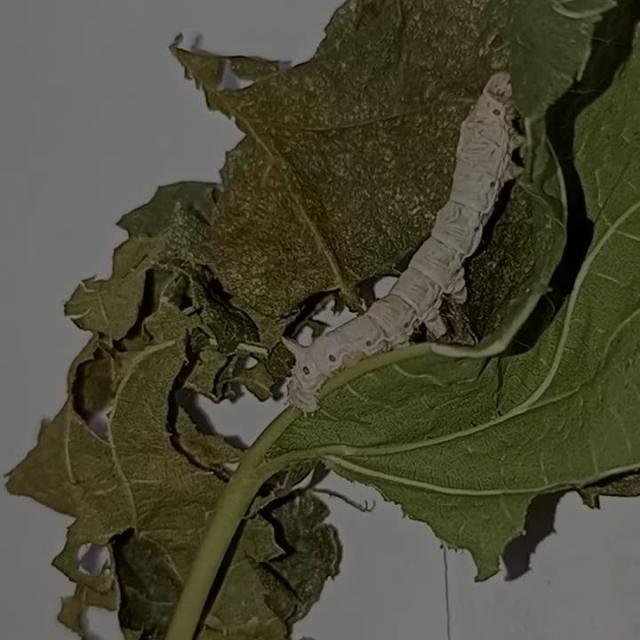Healthy: (271, 65, 542, 415)
